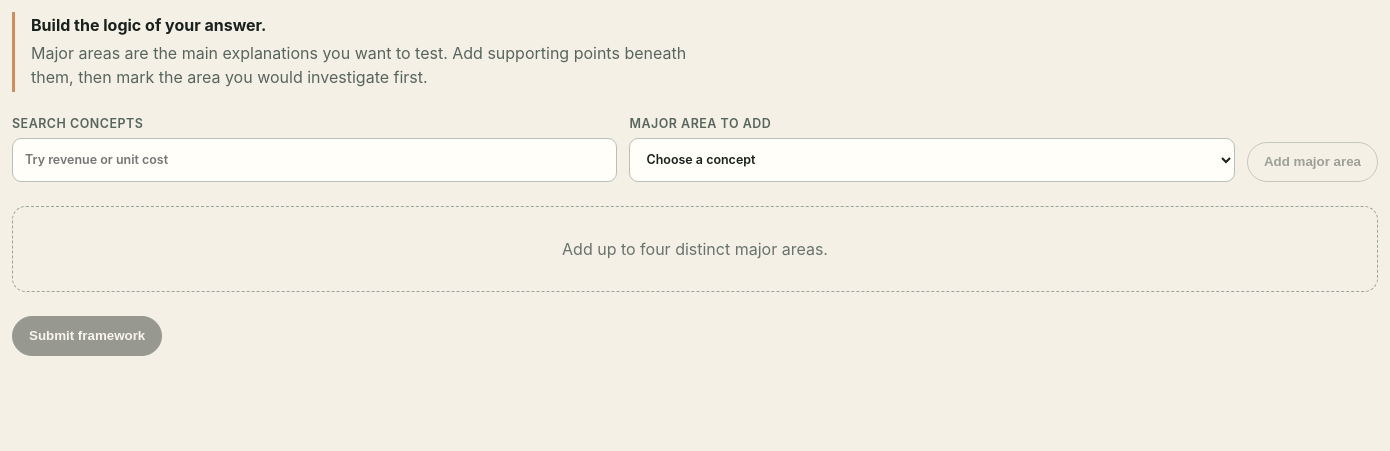
Test: FrameworkBuilder › explains the completed framework in learner language
Expected: the text "Major areas are the main explanations" is shown, x1=31 y1=43 x2=686 y2=87
Select "Revenue" in the dropdown labelled "Major area to add" at (932, 160), box x1=630 y1=138 x2=1235 y2=182
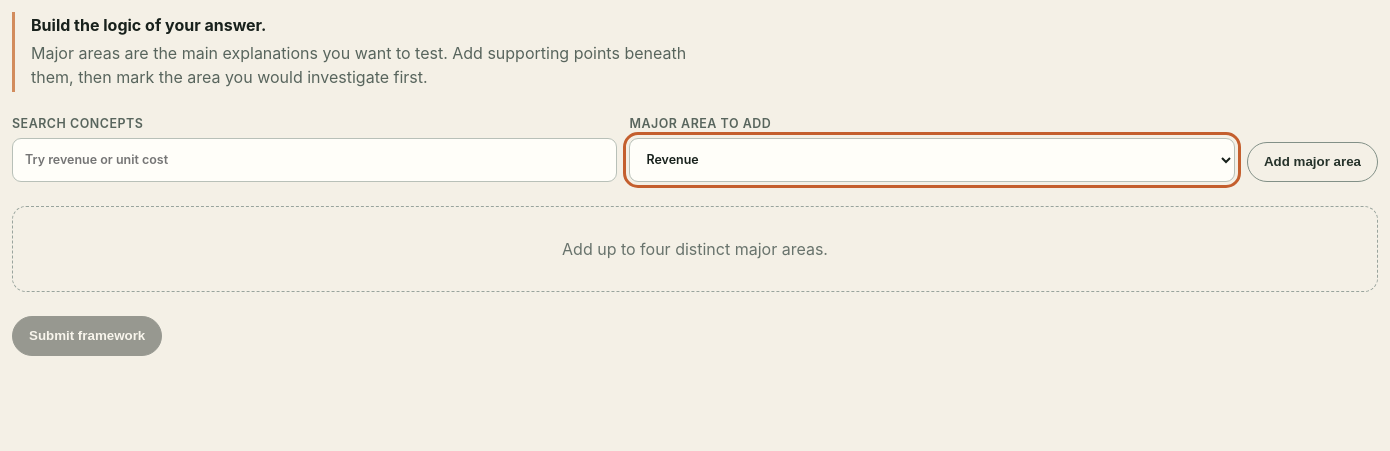
Click the button "Add major area".
click(1312, 162)  # box x1=1247 y1=142 x2=1378 y2=182
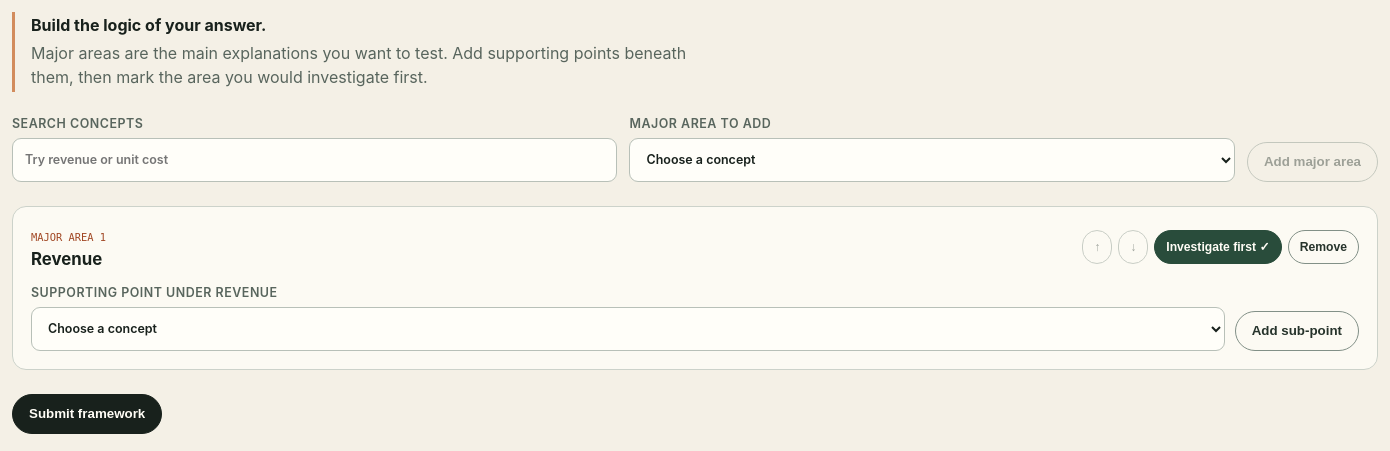
Now the text "Major area 1" is shown, box x1=31 y1=231 x2=106 y2=243
Now the button with aria-label "Investigate Revenue first" is shown, box x1=1154 y1=230 x2=1282 y2=264
